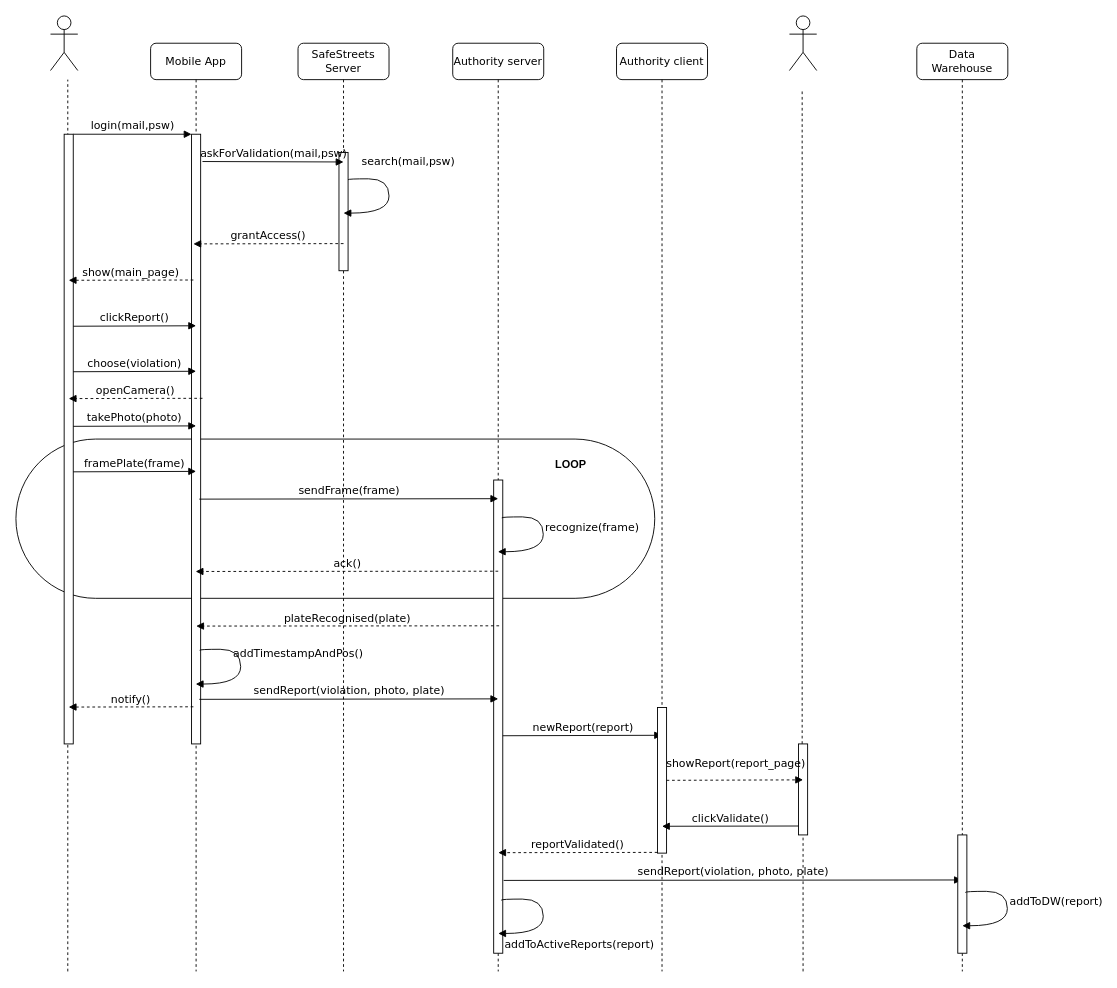
This 1117x988 diagram has some shape labels left out. Here are the shapes that lost their labels. From the top down, the centre of each, then its label:
At (x=64, y=43): "Civilian".
At (x=803, y=43): "Authority".
